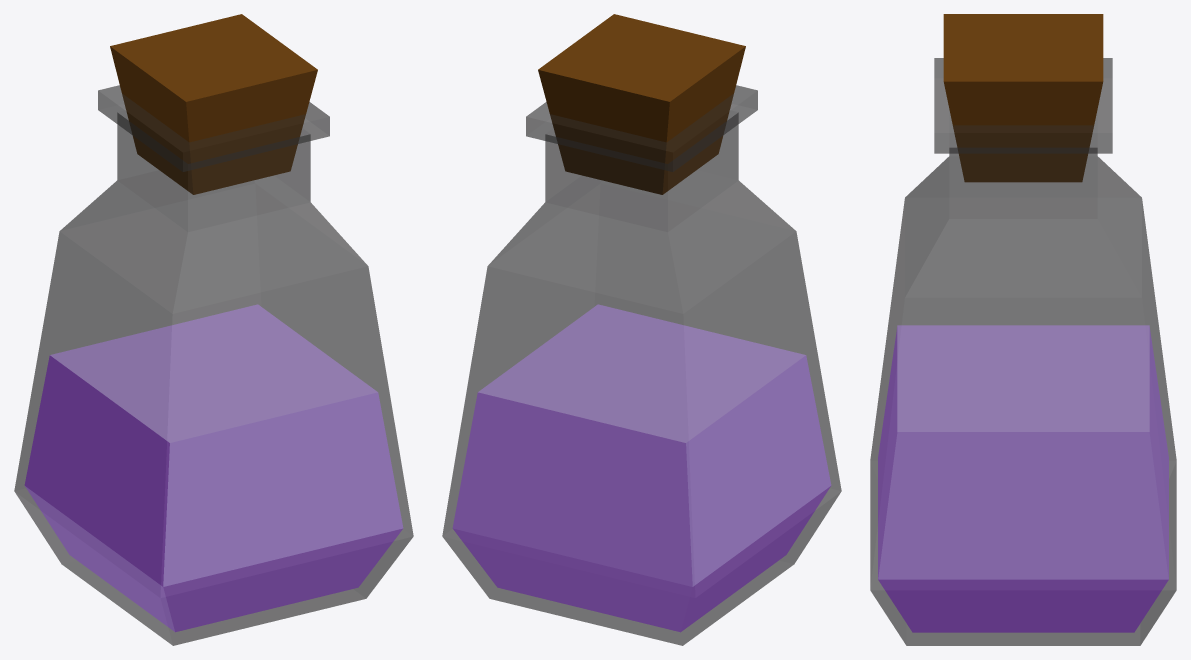
The model's file is stam_potion.glb.
3 renders of one model, left to right at view 1: azimuth 30°, elevation 25°; view 2: azimuth 150°, elevation 25°; view 3: azimuth 270°, elevation 25°, orthographic. The views are drawn at different scales.
Visible parts, largest first — view 1: pCube1, pCube2, pCube3; view 2: pCube1, pCube2, pCube3; view 3: pCube1, pCube2, pCube3.
Part boxes in pixels (x1,y1,x2,y2): pCube1: (14, 85, 413, 645); pCube2: (24, 304, 403, 632); pCube3: (110, 14, 317, 194); pCube1: (442, 85, 841, 645); pCube2: (452, 304, 831, 632); pCube3: (538, 14, 745, 194); pCube1: (870, 58, 1176, 645); pCube2: (878, 325, 1168, 632); pCube3: (943, 14, 1103, 182).
Size of the model in its own units: 0.093 by 0.1837 by 0.093.
